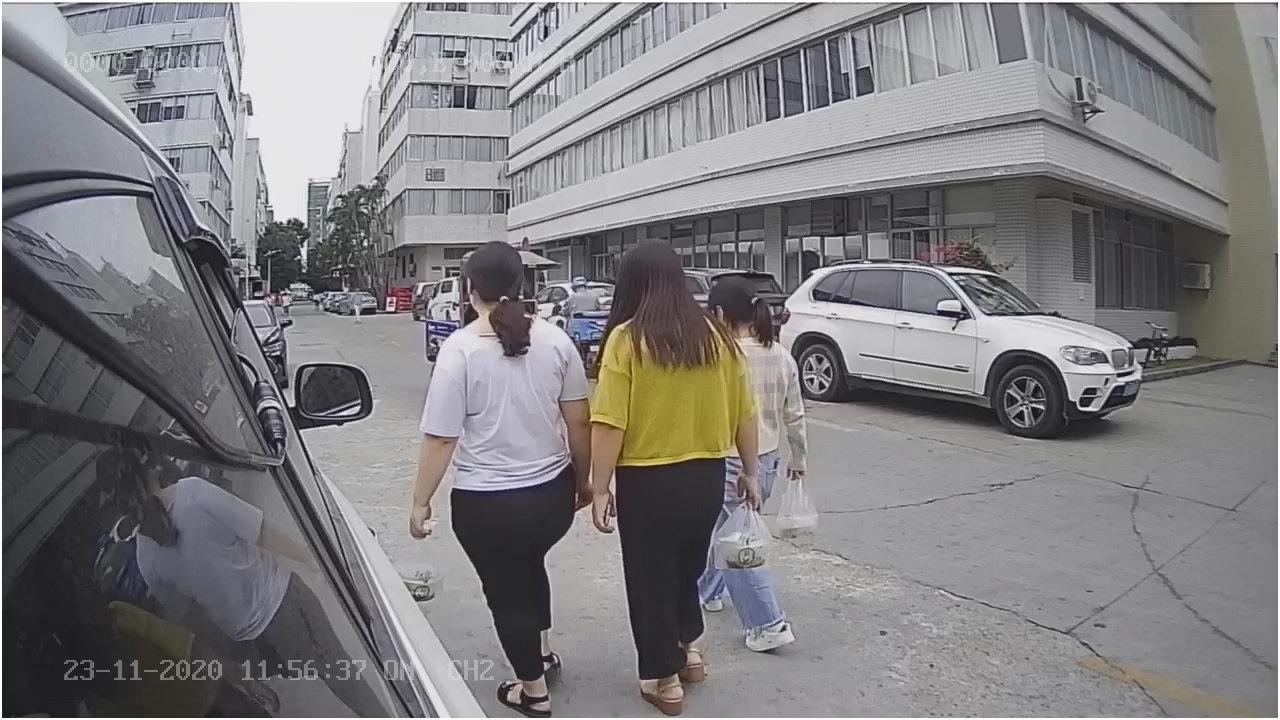person: (399, 233, 592, 717), (586, 236, 728, 712)
